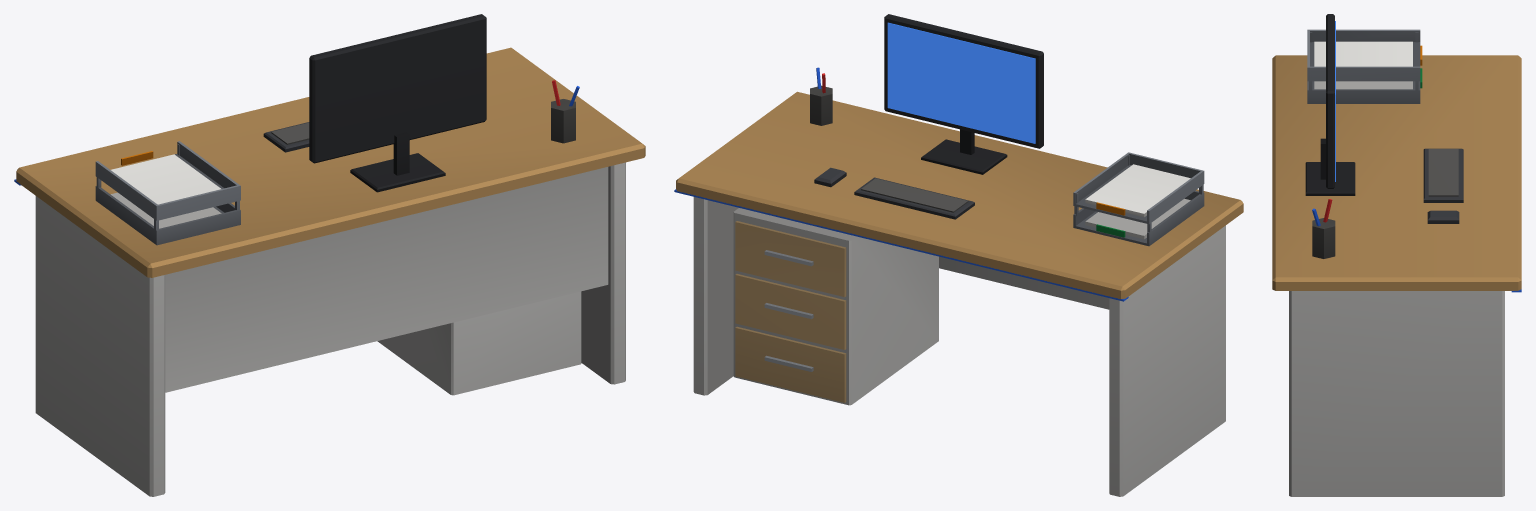
File: desk_review_01.glb
3 renders of one model, left to right at view 1: azimuth 30°, elevation 25°; view 2: azimuth 150°, elevation 25°; view 3: azimuth 270°, elevation 25°, orthographic. The views are drawn at different scales.
Visible parts, largest first — view 1: desk_review_01_mesh; view 2: desk_review_01_mesh, desk_review_01_screen; view 3: desk_review_01_mesh.
Part boxes in pixels (left/top/right/bottom): desk_review_01_mesh: left=14, top=14, right=645, bottom=496; desk_review_01_mesh: left=674, top=14, right=1243, bottom=496; desk_review_01_screen: left=887, top=22, right=1035, bottom=143; desk_review_01_mesh: left=1272, top=14, right=1521, bottom=496.
Size of the model in its own units: 1.6 by 1.16 by 0.75.
Materials: 2 (2 with a texture image).
